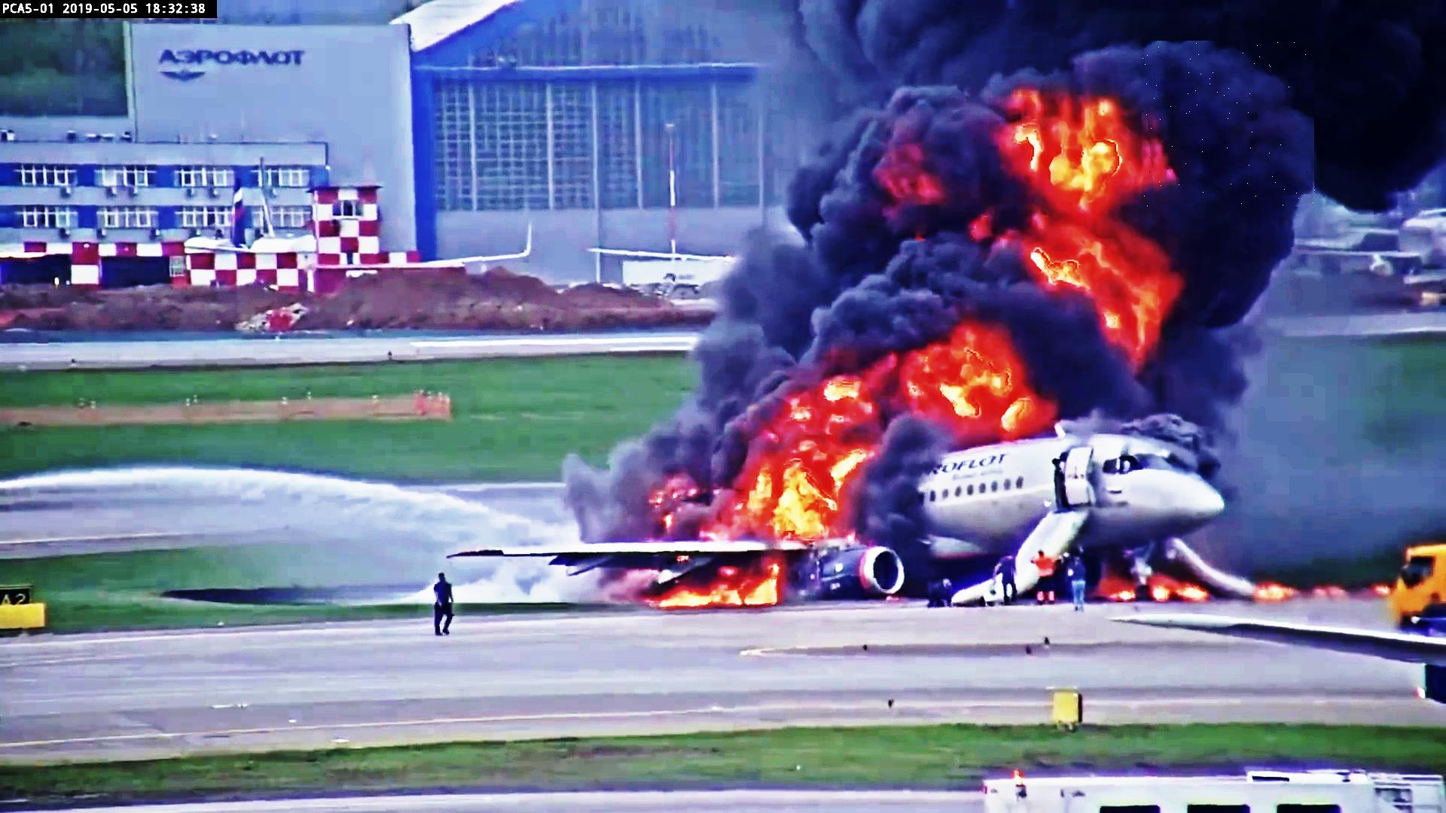smoke: (1142, 41, 1316, 207)
